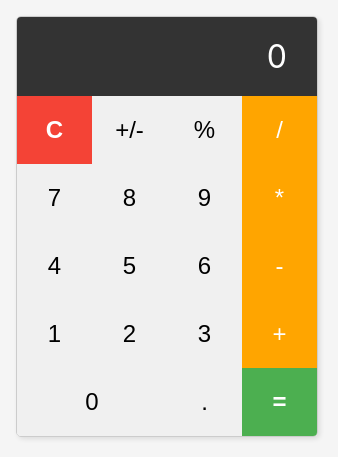
Test: Calculator Component › handles operator clicks and stores first operand
Click the button "5" at (130, 266), box 92,232 -> 167,300
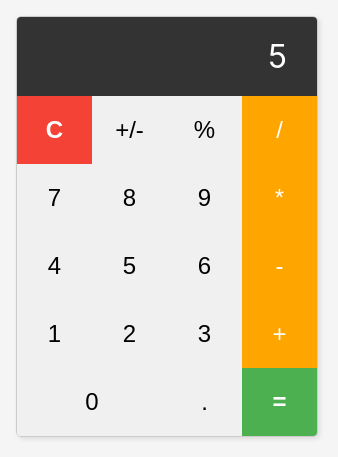
Click the button "+" at (280, 334), box 242,300 -> 317,368
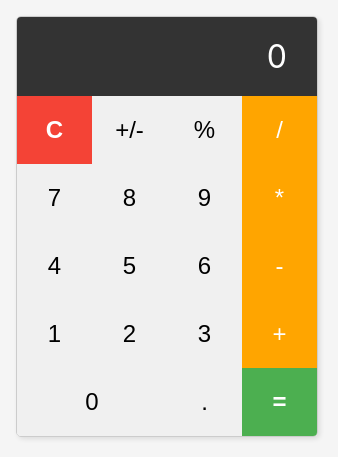
Check: the field reads "0", box 267,36 -> 287,76
